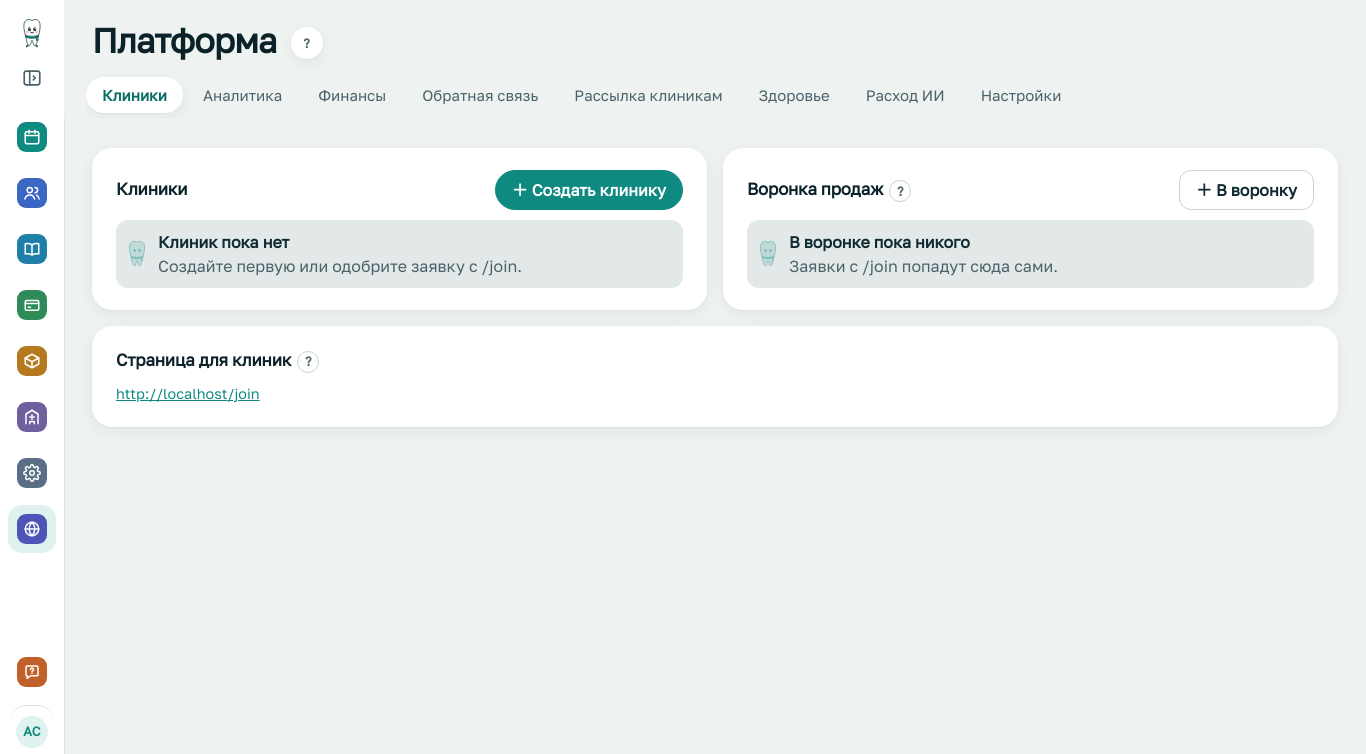
Test: демо-клиника: входы по дням — только число; регистрации из демо — своим каналом
Expected: the navigation bar named "Разделы" is shown, [8,113,56,553]
Step 1. Click the link "Аналитика" → point(242, 95), box [203,86,282,104]
(page scrolled)
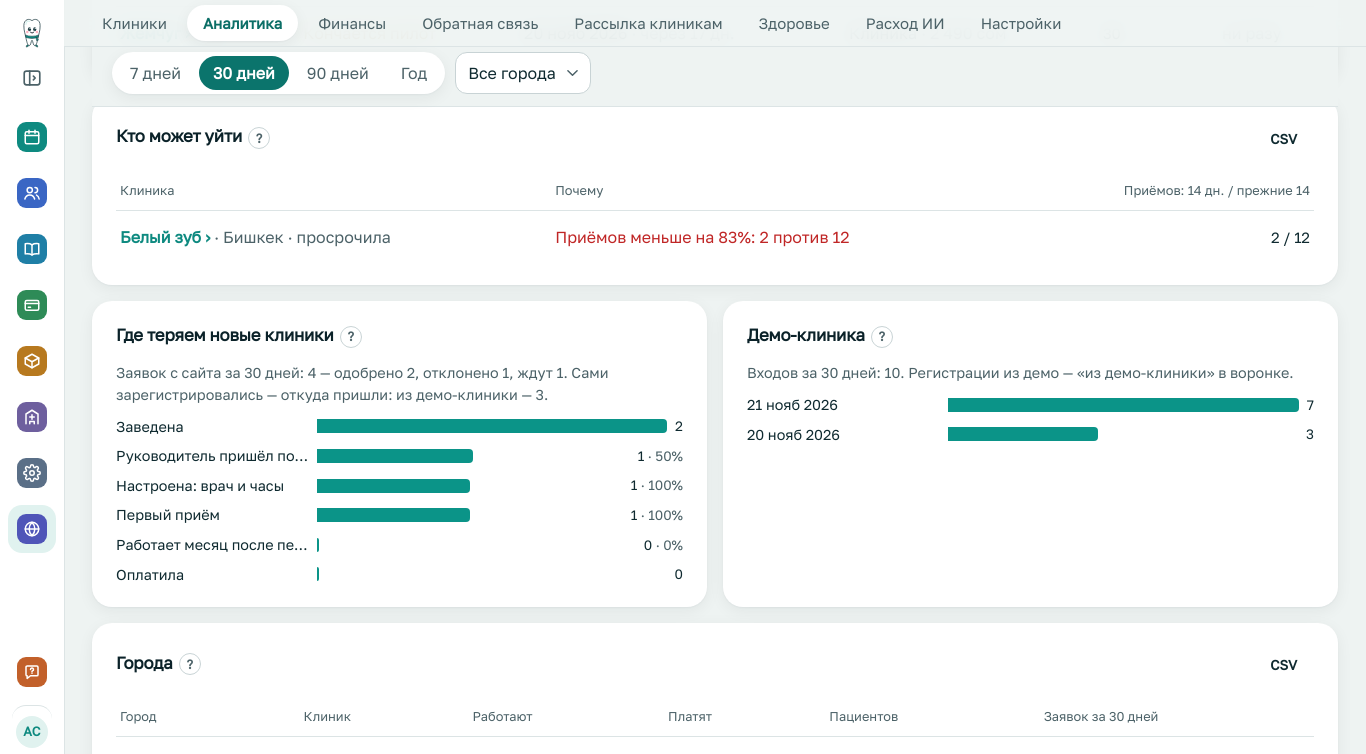
Expected: the element named "Входы в демо" shows "Входов за 30 дней: 10", [723,301,1338,607]
Expected: the list named "Входы в демо по дням" reads "21 нояб 2026 7 20 нояб 2026 3", [747,394,1314,445]
Expected: the text "откуда пришли: из демо-клиники — 3." is shown, [116,362,683,406]
